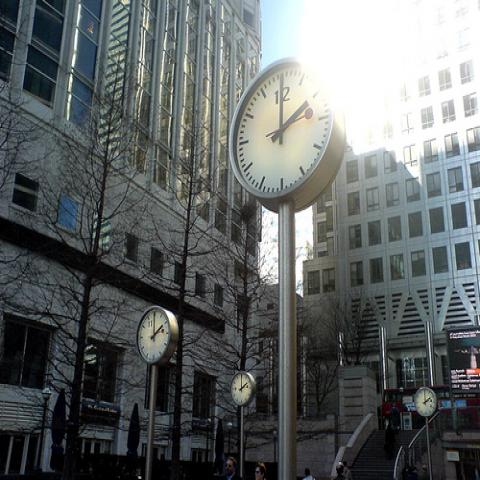bus: (382, 384, 479, 430)
